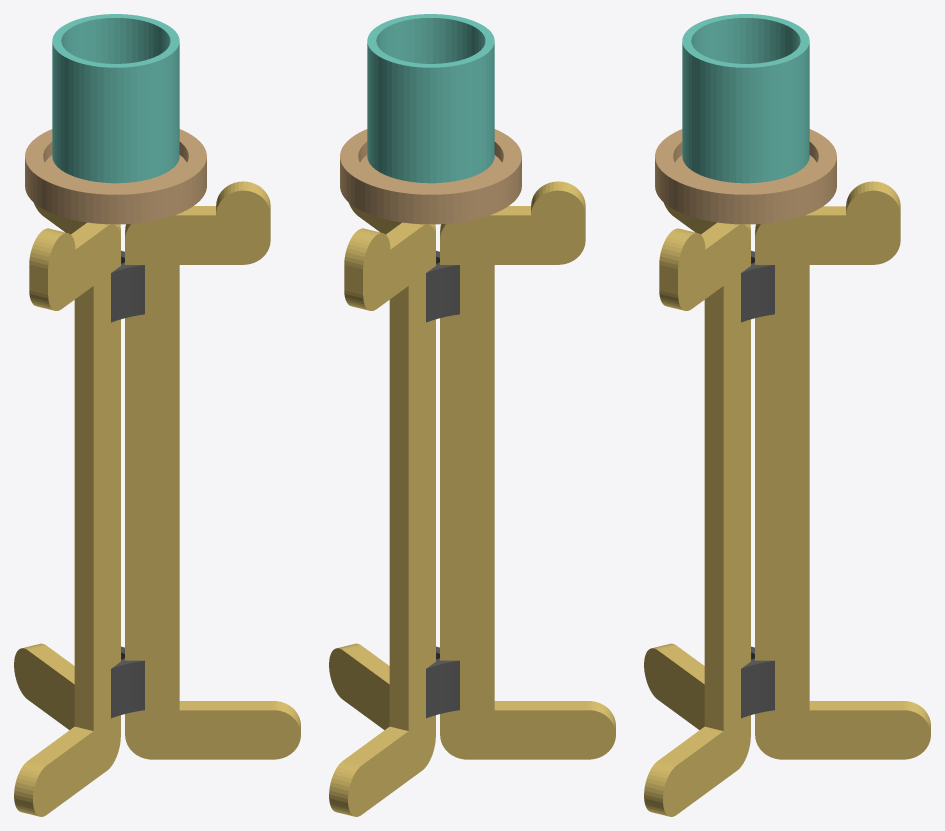
Rendered from BarbourSmith_Parametric_Plant_Stand.glb.
The picture shows the model from 3 angles, left to right: view 1: azimuth 30°, elevation 25°; view 2: azimuth 150°, elevation 25°; view 3: azimuth 270°, elevation 25°; orthographic projection.
Parts seen in each view (by area): view 1: part-10, part-8, part-0, part-1, part-9, part-5, part-2; view 2: part-8, part-9, part-0, part-1, part-10, part-6, part-3; view 3: part-9, part-10, part-0, part-1, part-8, part-7, part-4.
Boxes of the visible parts, box(x1,y1,x2,y2) form: part-10: box(125, 181, 300, 759); part-8: box(14, 222, 120, 816); part-0: box(52, 14, 179, 183); part-1: box(25, 129, 206, 224); part-9: box(14, 203, 120, 729); part-5: box(111, 658, 144, 718); part-2: box(111, 262, 144, 322); part-8: box(440, 181, 615, 759); part-9: box(329, 222, 435, 816); part-0: box(367, 14, 494, 183); part-1: box(340, 129, 521, 224); part-10: box(329, 202, 435, 729); part-6: box(426, 658, 459, 718); part-3: box(426, 262, 459, 322); part-9: box(755, 181, 930, 759); part-10: box(644, 222, 750, 816); part-0: box(682, 14, 809, 183); part-1: box(655, 129, 836, 224); part-8: box(644, 203, 750, 729); part-7: box(741, 658, 774, 718); part-4: box(741, 262, 774, 322).
Size of the model in its own units: 182 by 433 by 158.
